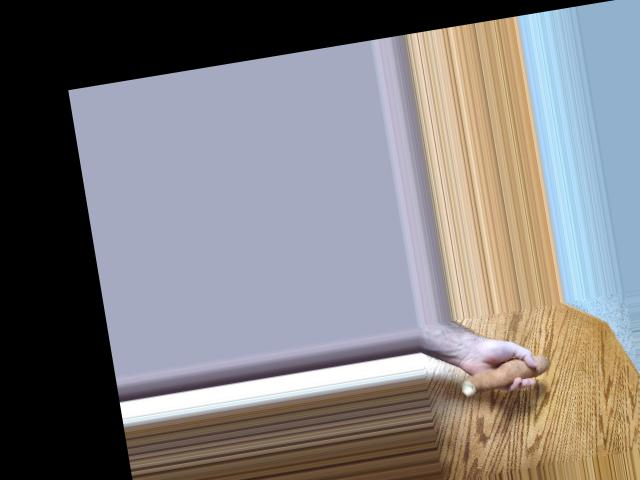sweet_potato: (455, 347, 559, 395)
